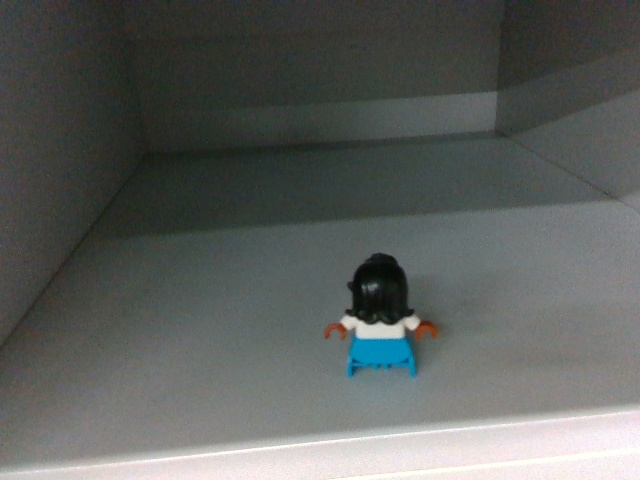people: (323, 252, 442, 380)
